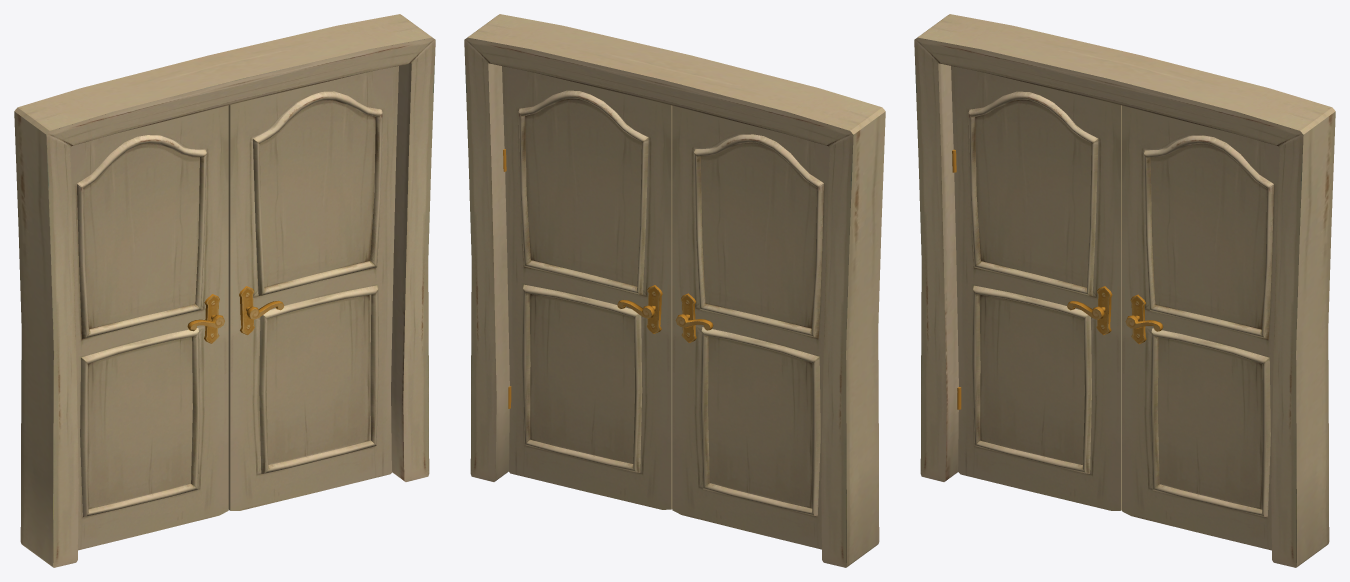
3 renders of one model, left to right at view 1: azimuth 30°, elevation 25°; view 2: azimuth 150°, elevation 25°; view 3: azimuth 330°, elevation 25°, orthographic.
Parts seen in each view (by area): view 1: double_door_r.001_2, double_door_r_1, double_door_border_0; view 2: double_door_r.001_2, double_door_r_1, double_door_border_0; view 3: double_door_r_1, double_door_r.001_2, double_door_border_0.
Part boxes in pixels (box(x1,y1,x2,y2)): double_door_r.001_2: box(228, 66, 398, 510); double_door_r_1: box(70, 105, 228, 550); double_door_border_0: box(14, 14, 435, 567); double_door_r.001_2: box(502, 66, 672, 509); double_door_r_1: box(672, 105, 829, 549); double_door_border_0: box(464, 14, 885, 567); double_door_r_1: box(951, 66, 1121, 510); double_door_r.001_2: box(1122, 105, 1279, 550); double_door_border_0: box(914, 14, 1335, 567).
Size of the model in its own units: 5.15 by 5.61 by 0.7375.
Materials: 3 (3 with a texture image).
